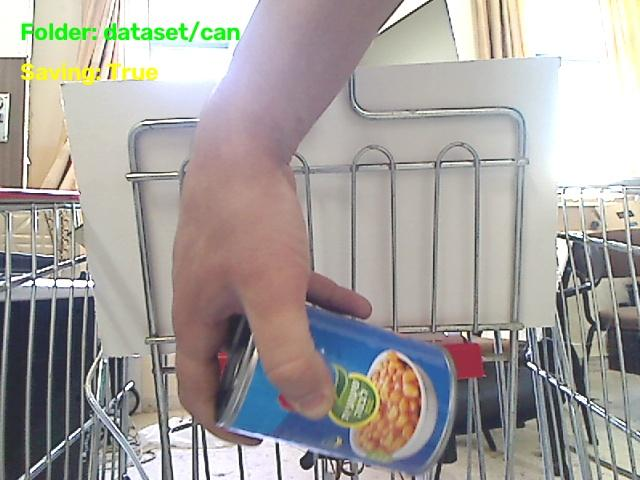can: (217, 306, 455, 474)
